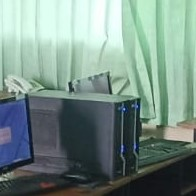monitor: (0, 93, 78, 193), (0, 93, 35, 175)
